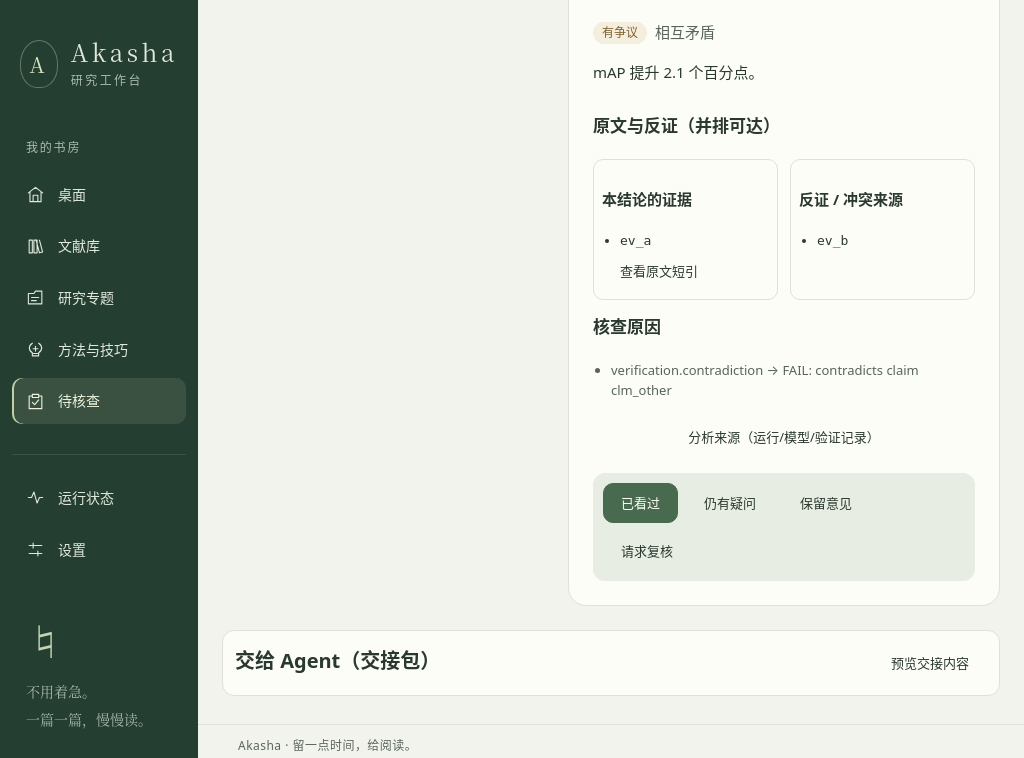
Test: UX-037 agent handoff manifest, citations, hashes and capacity › reports a capacity refusal with the real numbers and produces no partial file
The image size is (1024, 758).
(page scrolled)
Click the button "预览交接内容". click: (930, 663)
box: [873, 643, 987, 683]
(page scrolled)
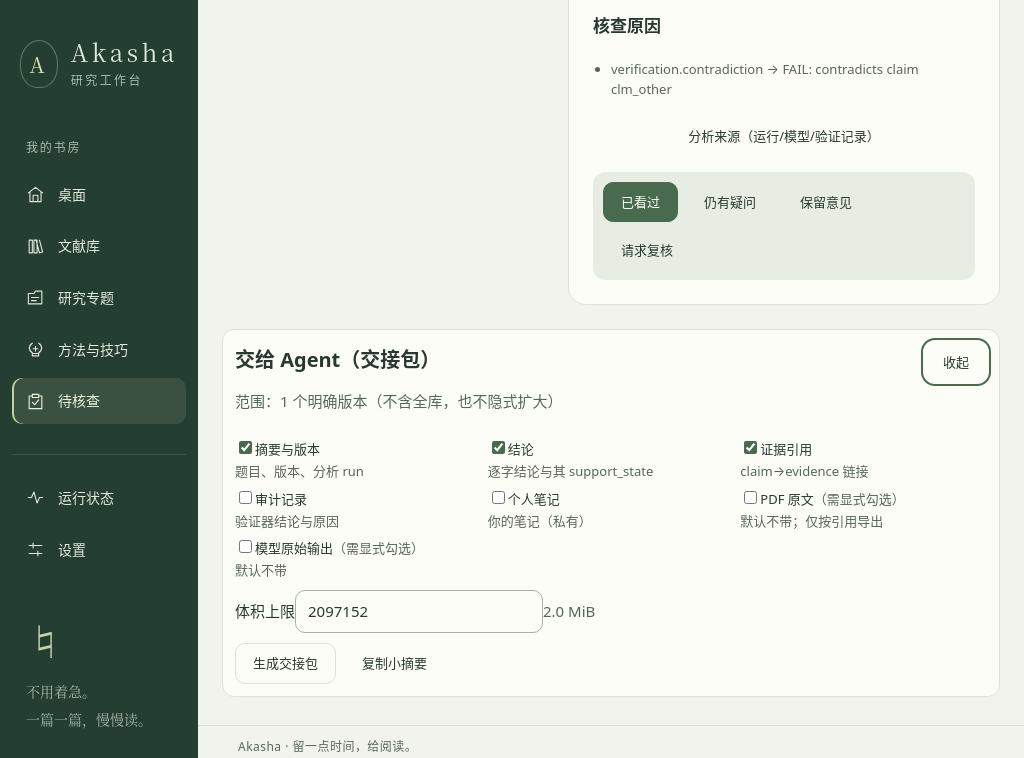
Now the text "范围：1 个明确版本（不含全库，也不隐式扩大）" is shown, box [235, 391, 562, 411]
Replace the text in the number field named "体积上限（字节）" with "1024". click: (419, 612)
box: [295, 590, 543, 634]
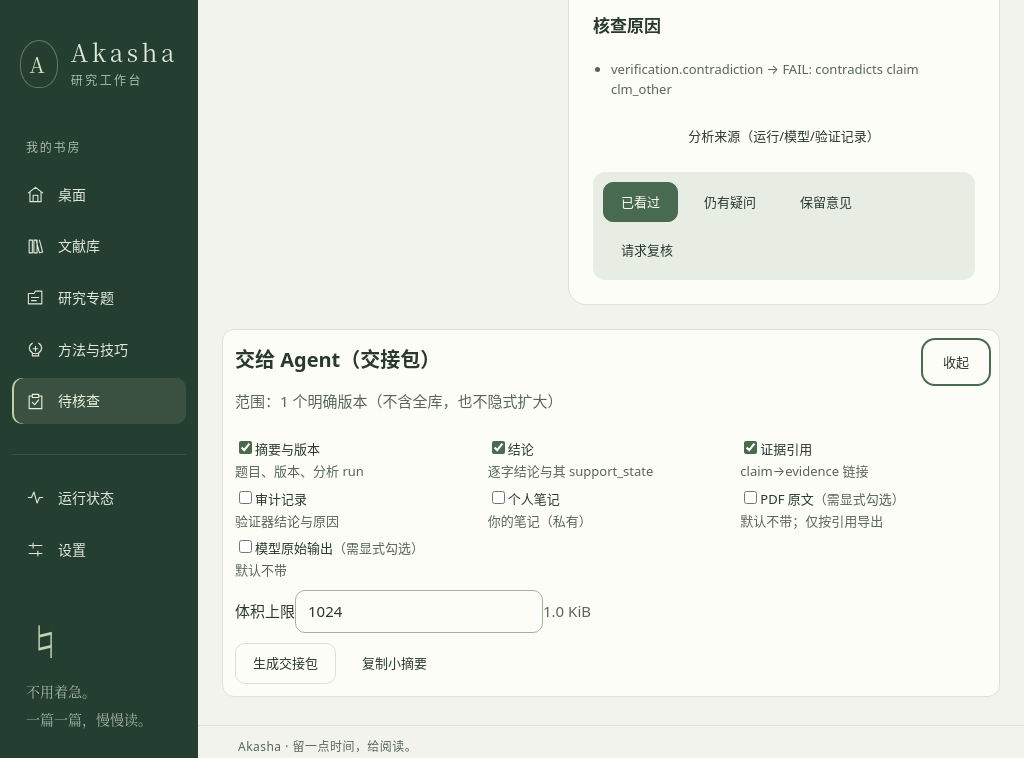
Click the button "生成交接包". click: (286, 663)
box: [235, 643, 336, 684]
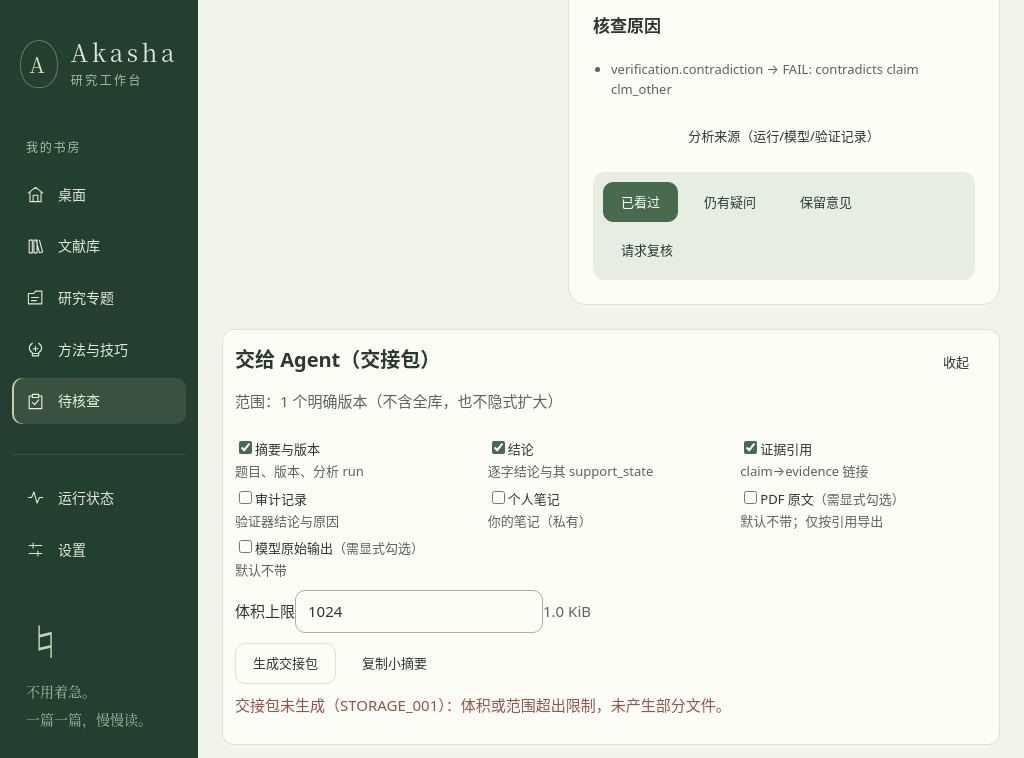
Now the message with test id "handoff-error" shows "STORAGE_001", box [340, 695, 438, 715]
Now the message with test id "handoff-error" shows "未产生部分文件", box [438, 695, 731, 715]
